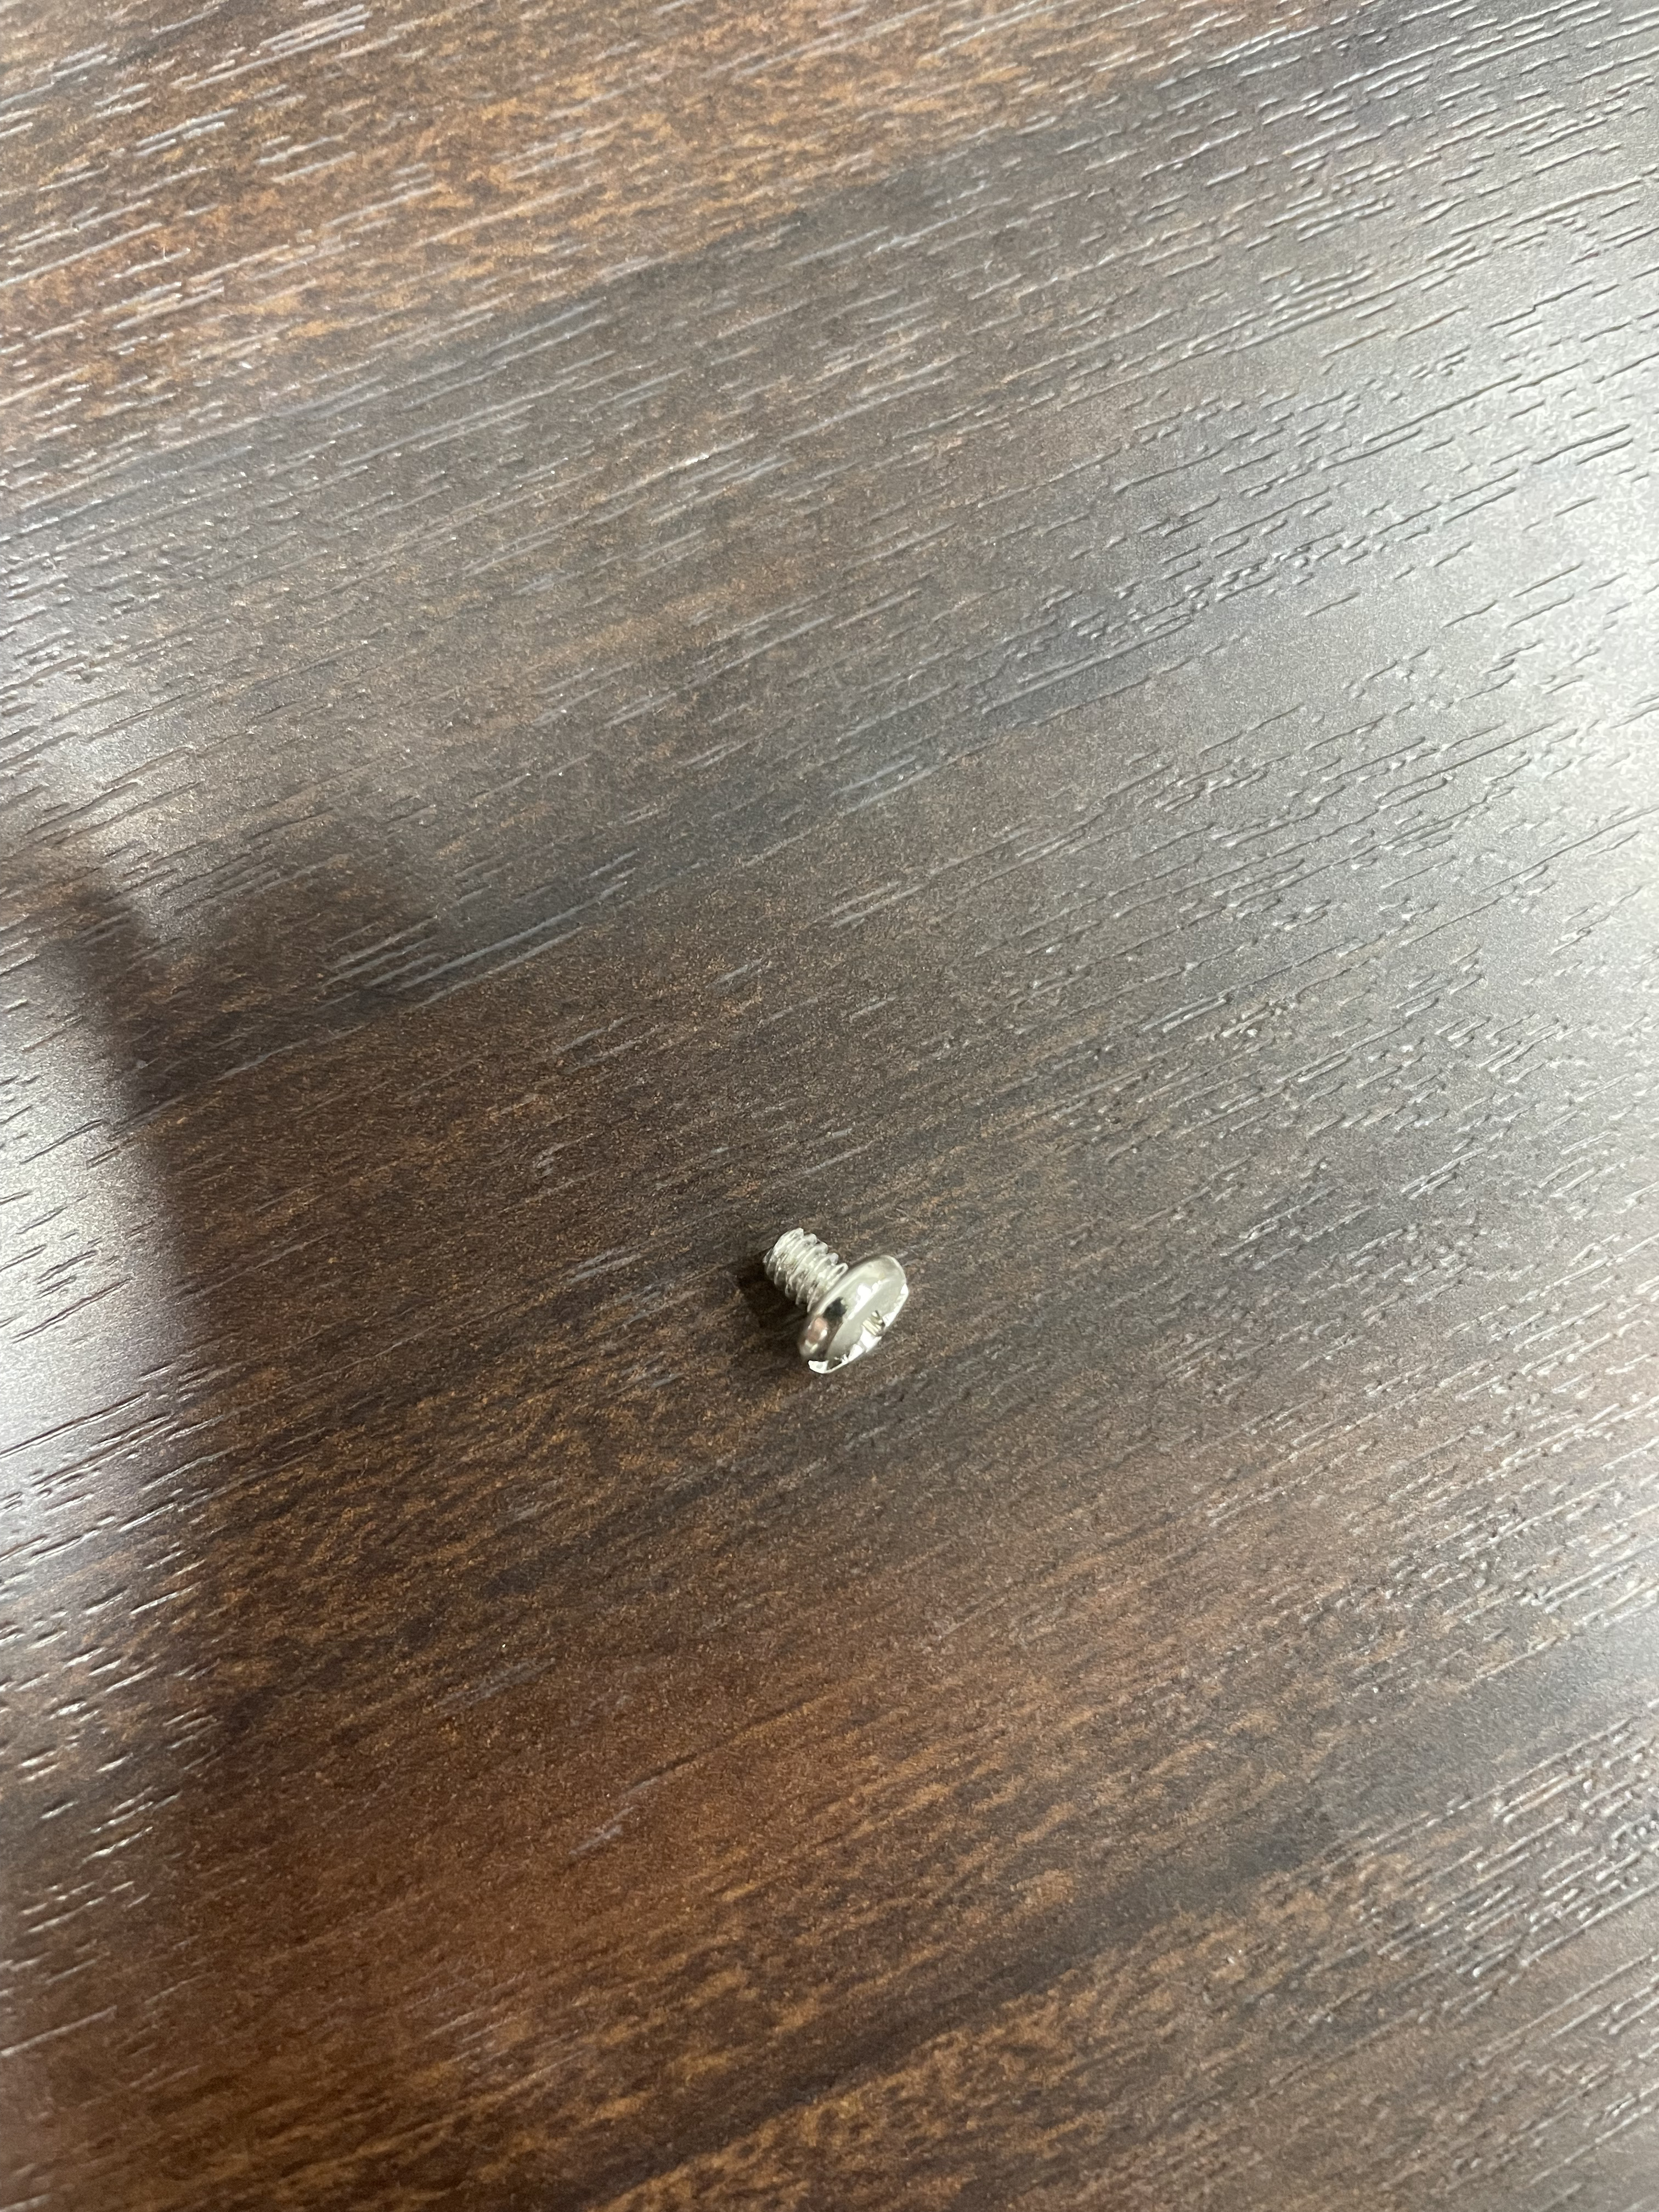screw4: (760, 1223, 911, 1385)
